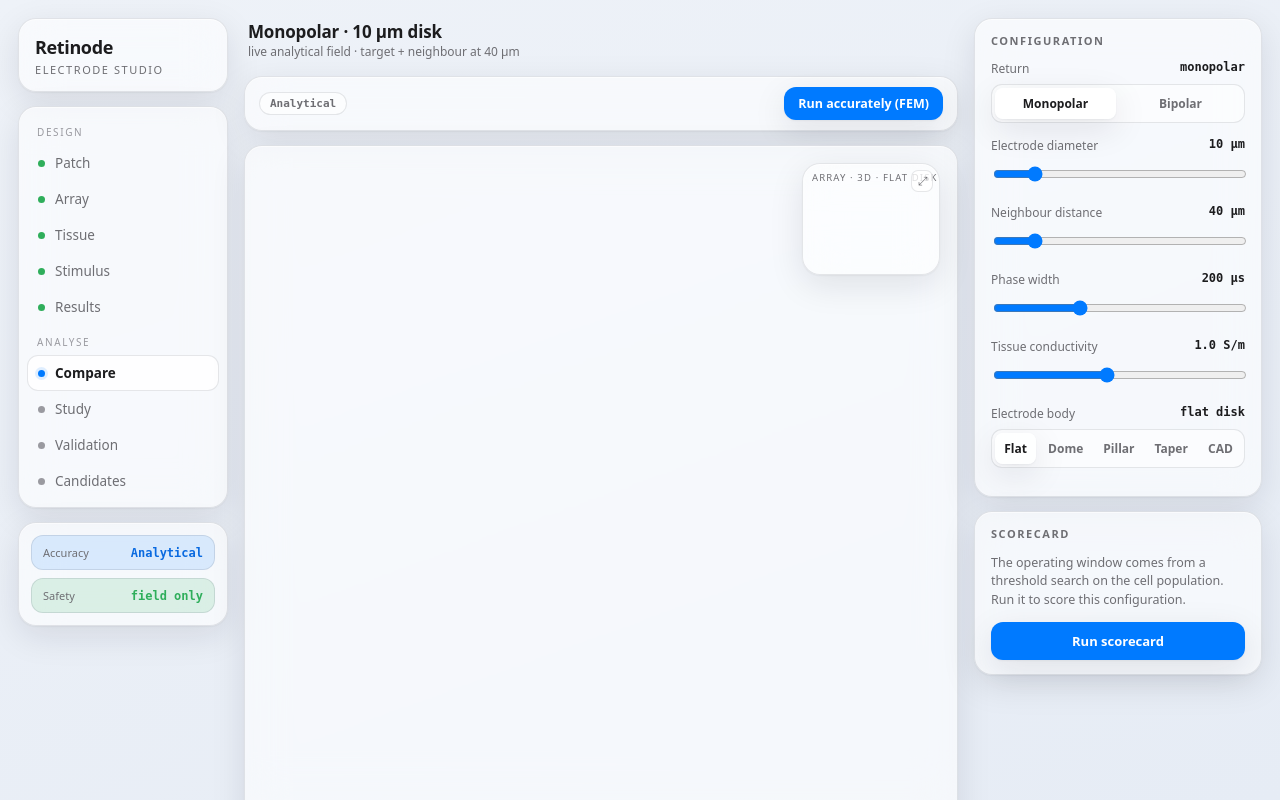
Test: Compare › clears a running job's progress when a control is edited, so nothing locks
The image size is (1280, 800).
Click the button "Run scorecard".
click(1118, 641)  # box [991,622,1245,660]
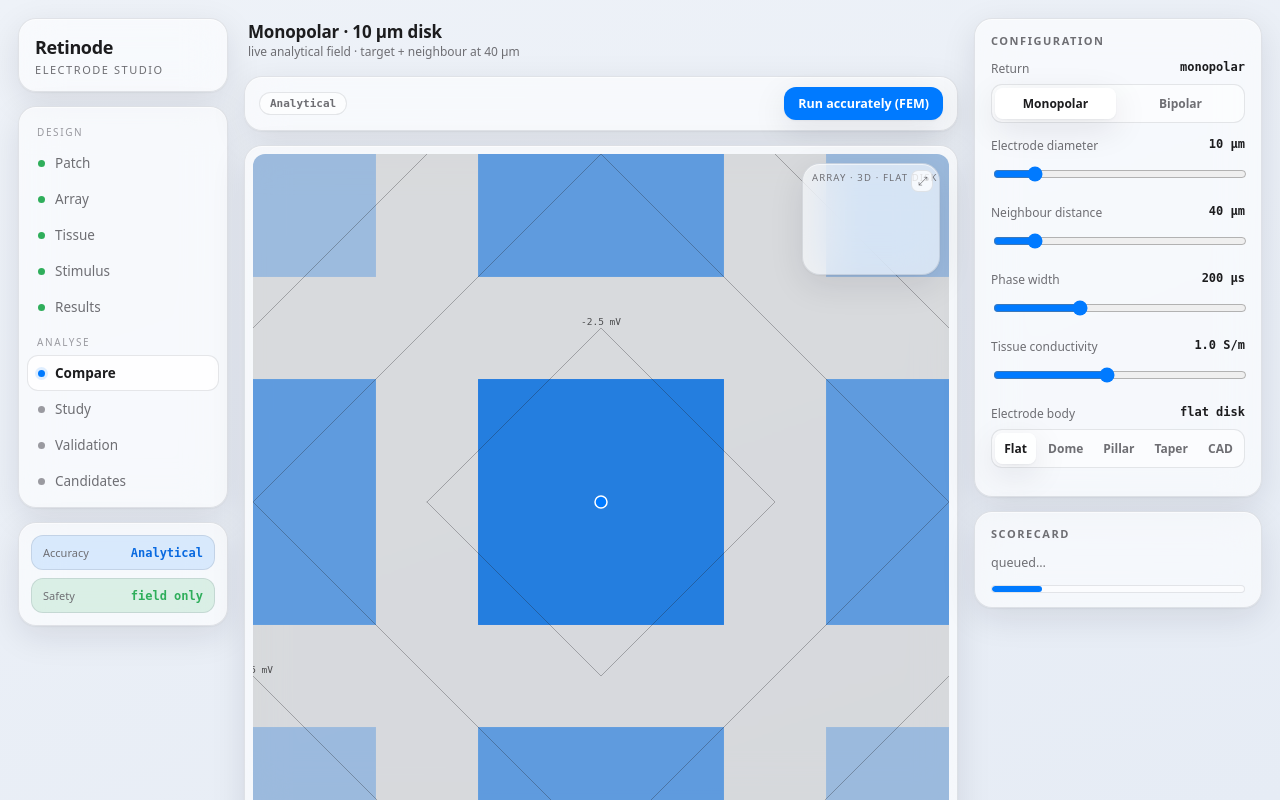
Expected: the button "Run scorecard" is gone
Set the slider labelled "Electrode diameter 10 µm" to "16" at [1076, 174], box [993,163,1247,185]
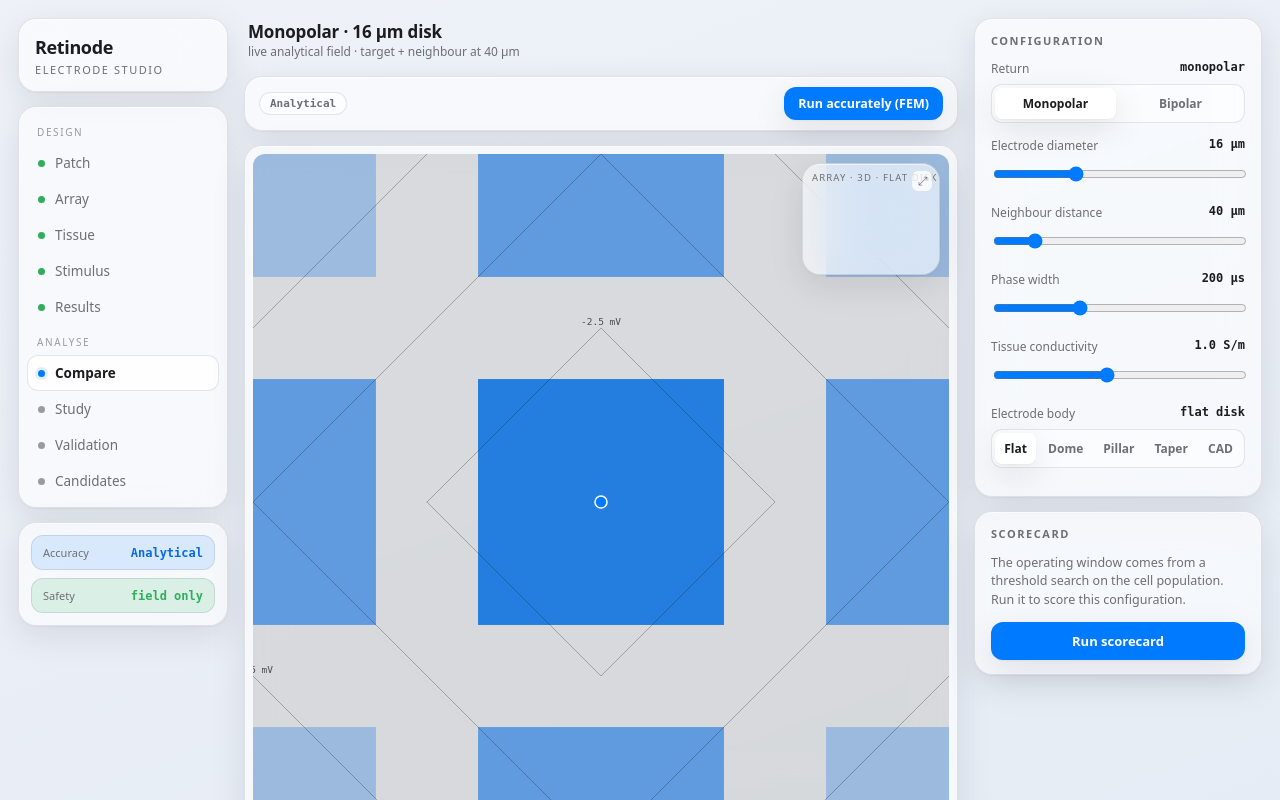
Expected: the button "Run scorecard" is shown, [991,622,1245,660]
